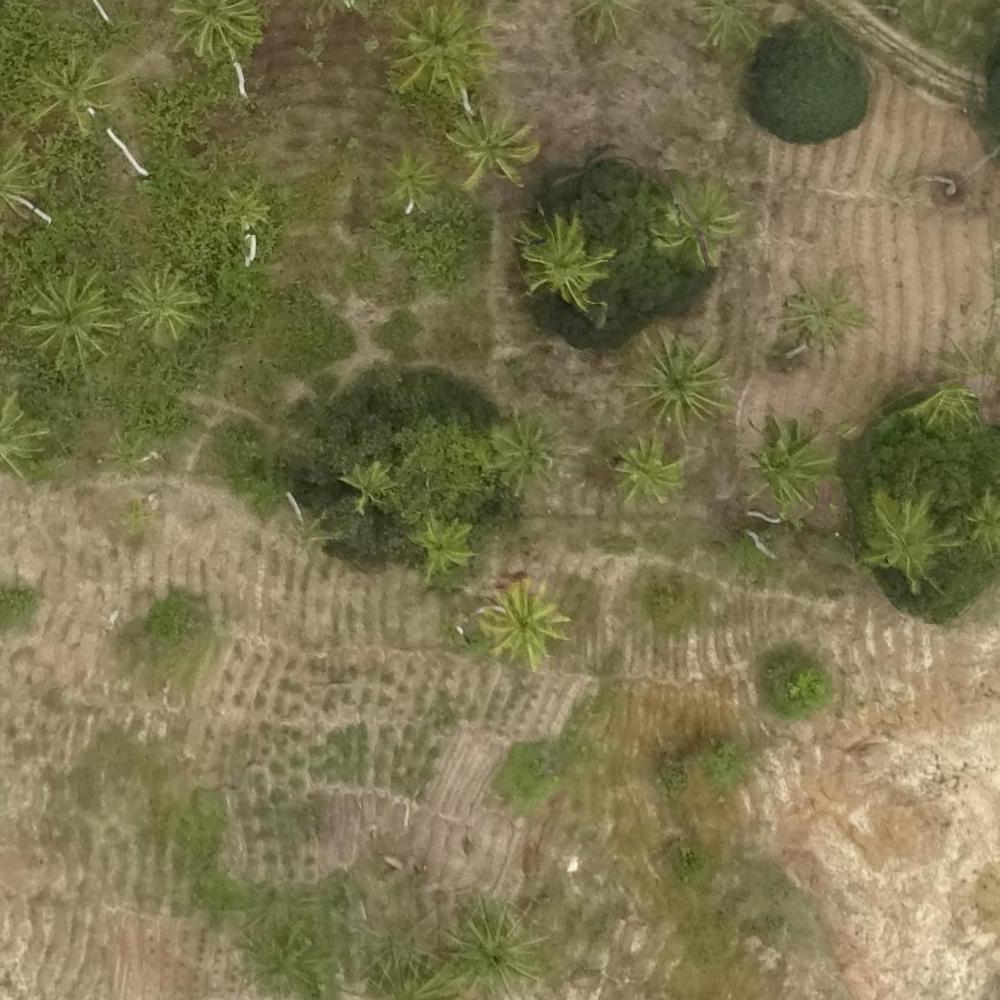Palm: (625, 327, 729, 435), (390, 4, 492, 93), (748, 418, 841, 510), (477, 583, 574, 671), (860, 489, 948, 583), (444, 109, 532, 190), (788, 271, 874, 348), (521, 215, 602, 295), (28, 278, 109, 357), (175, 1, 268, 66), (121, 266, 198, 342), (31, 58, 112, 129), (488, 414, 561, 488), (615, 435, 684, 504), (380, 154, 447, 214), (412, 514, 471, 574), (217, 184, 272, 238)
